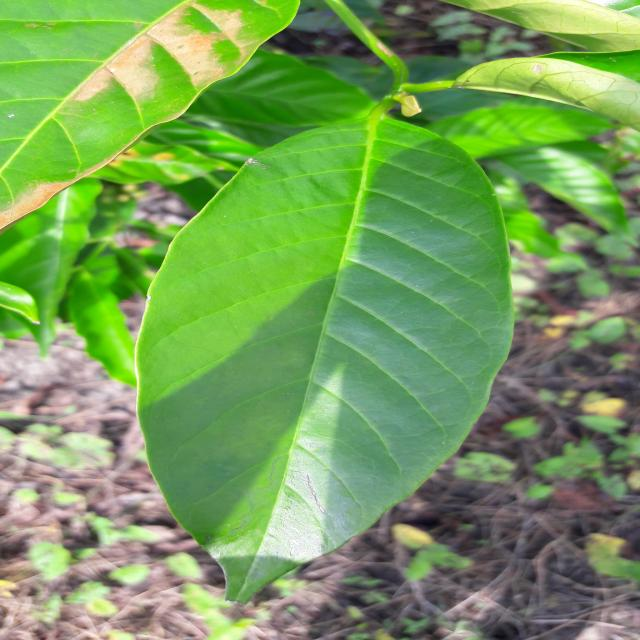Sanas: (134, 111, 516, 606)
